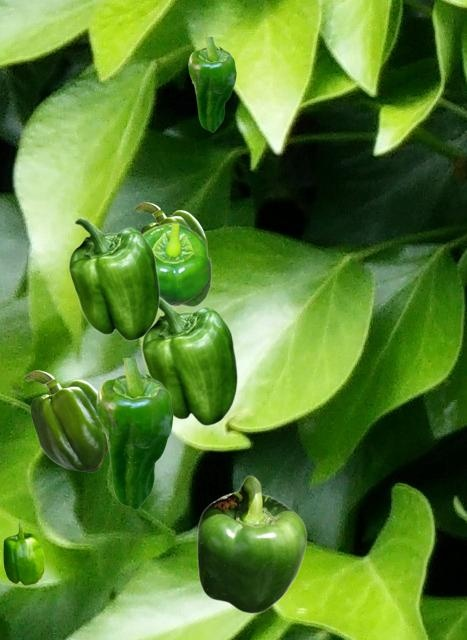bell_pepper: (196, 475, 306, 613), (141, 296, 237, 425), (96, 358, 172, 509), (68, 217, 159, 340), (23, 370, 107, 471), (143, 222, 211, 306), (188, 37, 235, 131), (134, 202, 206, 241), (3, 522, 43, 584)
